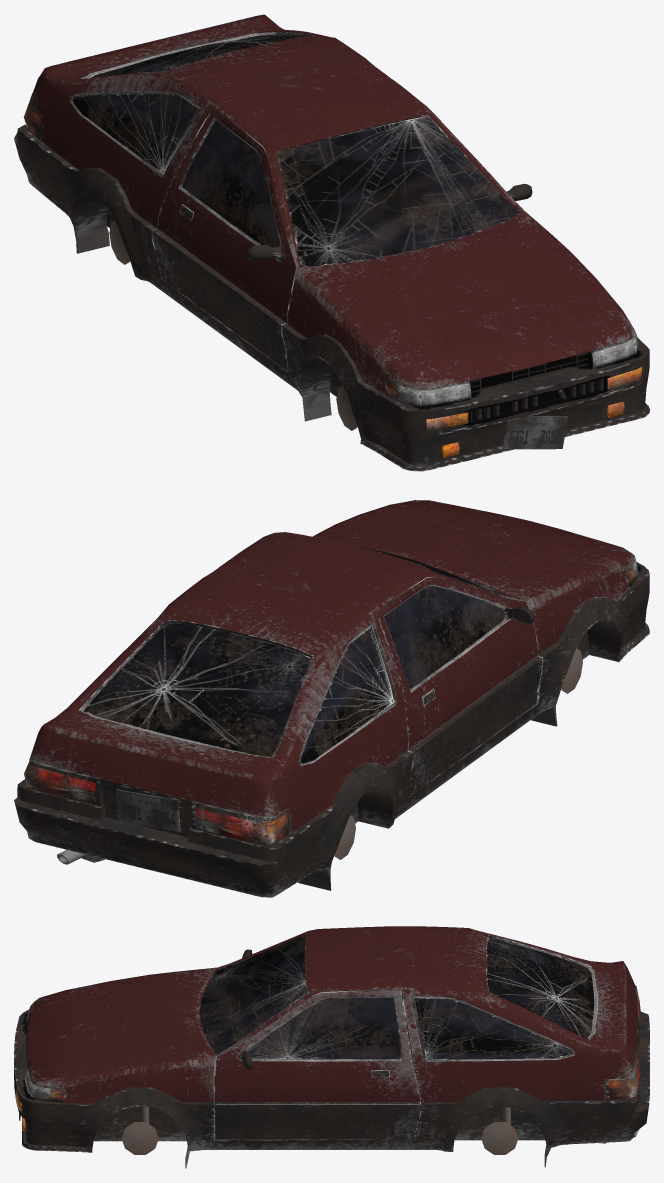
The model's file is Levin_Chassi.fbx.
3 views of the same model, one above another, from view 1: azimuth 30°, elevation 25°; view 2: azimuth 150°, elevation 25°; view 3: azimuth 270°, elevation 25° (orthographic). The views are drawn at different scales.
Visible parts, largest first — view 1: Levin_Chassi; view 2: Levin_Chassi; view 3: Levin_Chassi.
Boxes of the visible parts, x1,y1,x2,y2 form: Levin_Chassi: (14,14,649,471); Levin_Chassi: (14,500,649,897); Levin_Chassi: (14,926,649,1168).
Bounding box in the file's own units: 189 × 134 × 464.
